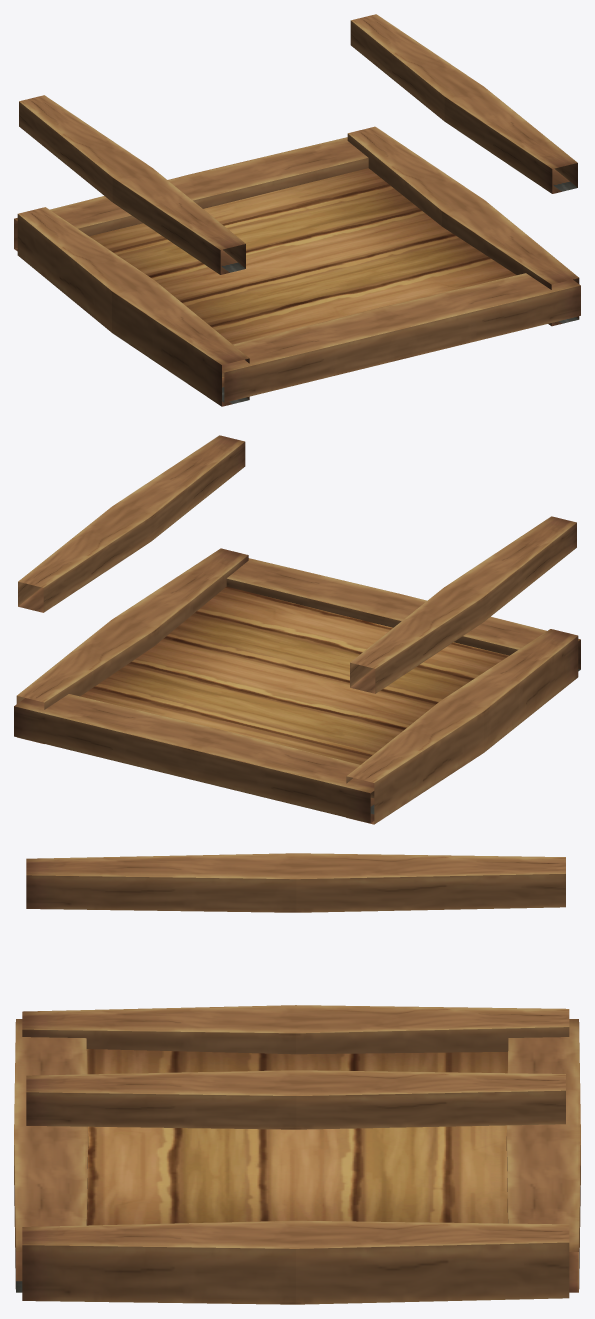
Rendered from bridge_02_tile_03.fbx.
3 renders of one model, top to bottom at view 1: azimuth 30°, elevation 25°; view 2: azimuth 150°, elevation 25°; view 3: azimuth 270°, elevation 25°, orthographic. The views are drawn at different scales.
Visible parts, largest first — view 1: bridge_02_tile_03; view 2: bridge_02_tile_03; view 3: bridge_02_tile_03.
Boxes of the visible parts, bbox=[...] form: bridge_02_tile_03: bbox=[14, 14, 580, 406]; bridge_02_tile_03: bbox=[14, 435, 580, 824]; bridge_02_tile_03: bbox=[14, 853, 580, 1304].
Size of the model in its own units: 2.01 by 0.8095 by 1.98.
